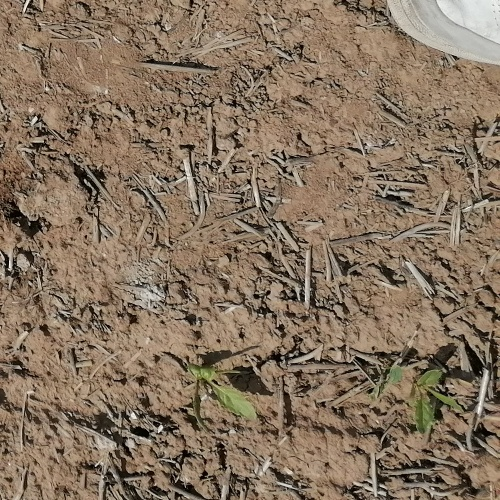beet: (187, 362, 259, 429), (411, 372, 462, 428)
